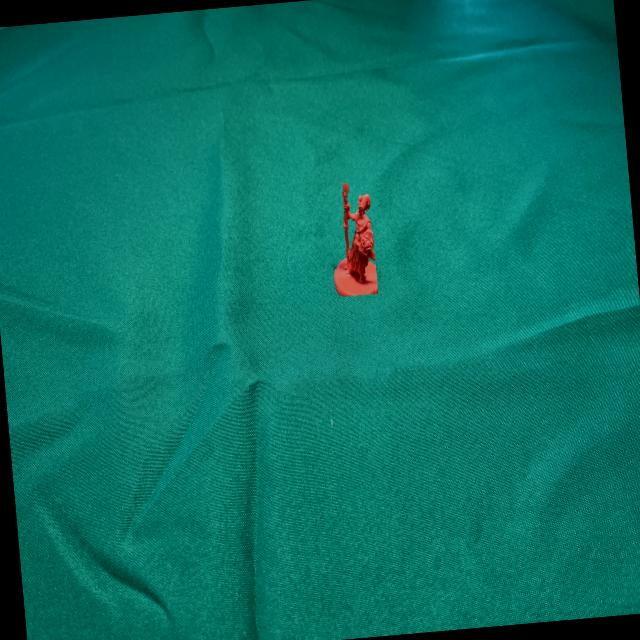amon_follower: (333, 184, 375, 296)
